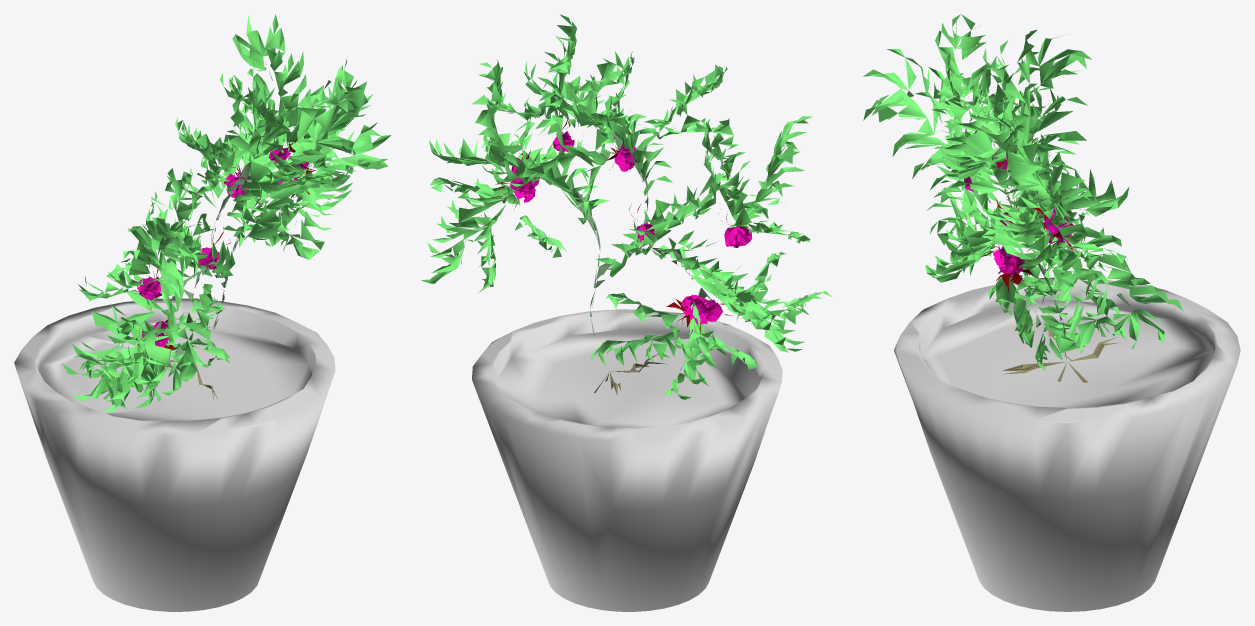
Rendered from plant.glb.
3 views of the same model, side by side, from view 1: azimuth 30°, elevation 25°; view 2: azimuth 150°, elevation 25°; view 3: azimuth 270°, elevation 25° (orthographic). The views are drawn at different scales.
Visible parts, largest first — view 1: Circle, 1Newplan_primitive8, 1Newplan_primitive14, 1Newplan_primitive3; view 2: Circle, 1Newplan_primitive8, 1Newplan_primitive14, 1Newplan_primitive3; view 3: Circle, 1Newplan_primitive8, 1Newplan_primitive14, 1Newplan_primitive3, 1Newplan_primitive1, 1Newplan_primitive12.
Part boxes in pixels (left/top/right/bottom): Circle: left=14, top=298, right=335, bottom=611; 1Newplan_primitive8: left=62, top=14, right=390, bottom=412; 1Newplan_primitive14: left=137, top=147, right=308, bottom=352; 1Newplan_primitive3: left=101, top=62, right=346, bottom=364; Circle: left=472, top=309, right=782, bottom=611; 1Newplan_primitive8: left=421, top=14, right=832, bottom=399; 1Newplan_primitive14: left=510, top=131, right=752, bottom=324; 1Newplan_primitive3: left=464, top=60, right=795, bottom=370; Circle: left=894, top=277, right=1240, bottom=611; 1Newplan_primitive8: left=863, top=14, right=1183, bottom=371; 1Newplan_primitive14: left=964, top=146, right=1073, bottom=278; 1Newplan_primitive3: left=907, top=50, right=1130, bottom=339; 1Newplan_primitive1: left=1003, top=314, right=1120, bottom=382; 1Newplan_primitive12: left=981, top=141, right=1082, bottom=292.
Size of the model in its own units: 4.94 by 7.26 by 4.23.
